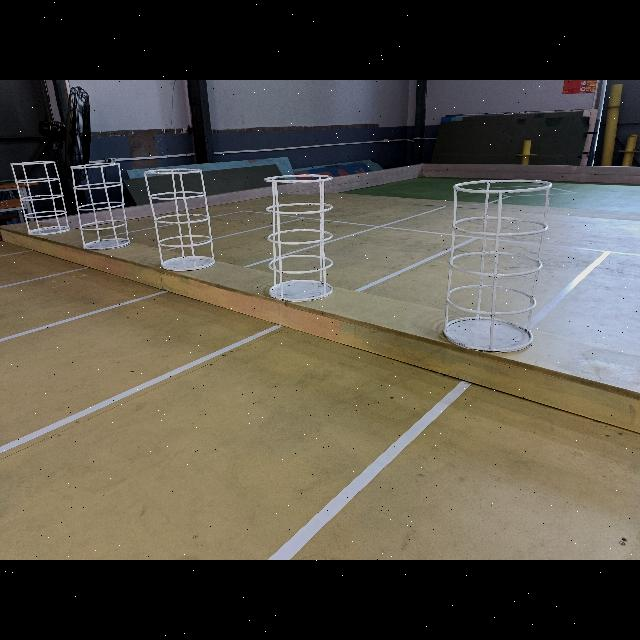S: (442, 172, 554, 356), (264, 174, 338, 304), (144, 165, 216, 272), (68, 162, 130, 250), (12, 162, 70, 236)
